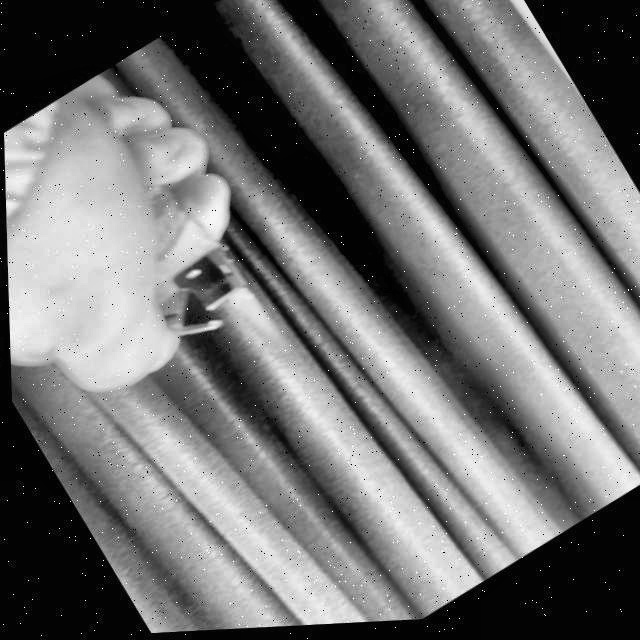Fire: (225, 285, 281, 357)
